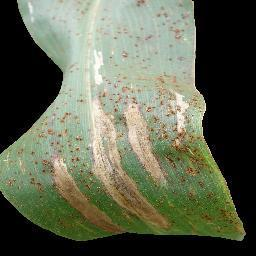Corn_Common_Rust: (0, 50, 256, 256), (17, 2, 203, 52), (0, 154, 21, 157)
